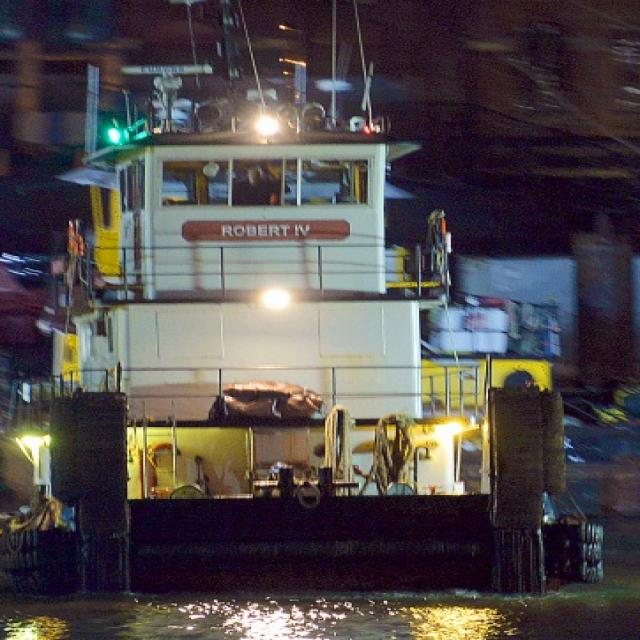tugboat: (1, 1, 613, 610)
